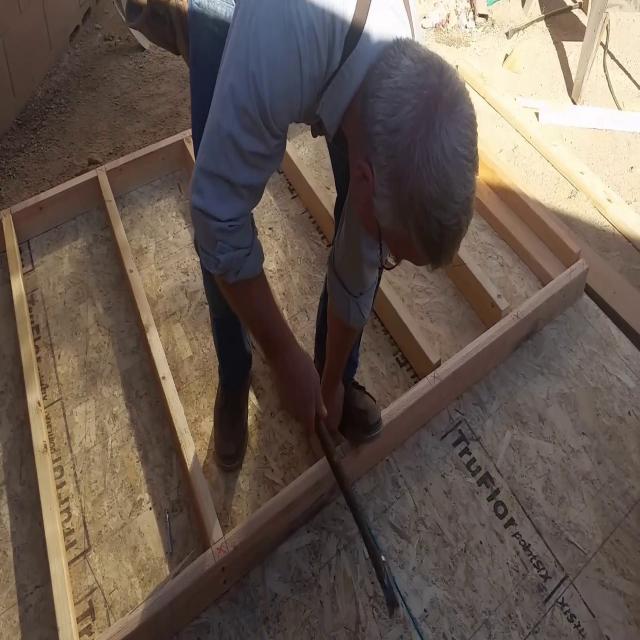hammer: (314, 407, 400, 619)
